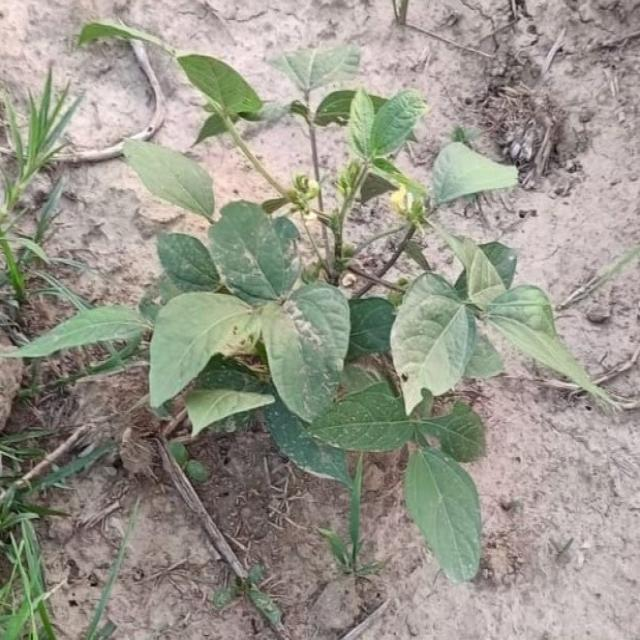plant: (14, 20, 611, 581)
